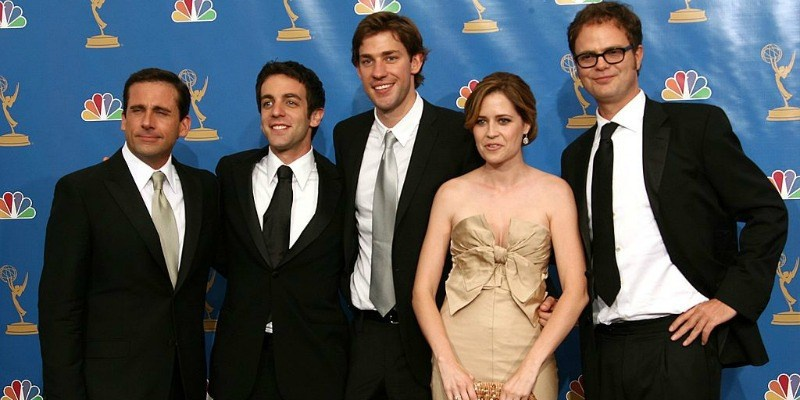bad: (570, 32, 633, 94), (349, 39, 411, 101), (246, 80, 308, 142), (460, 101, 522, 163), (124, 95, 175, 147)
